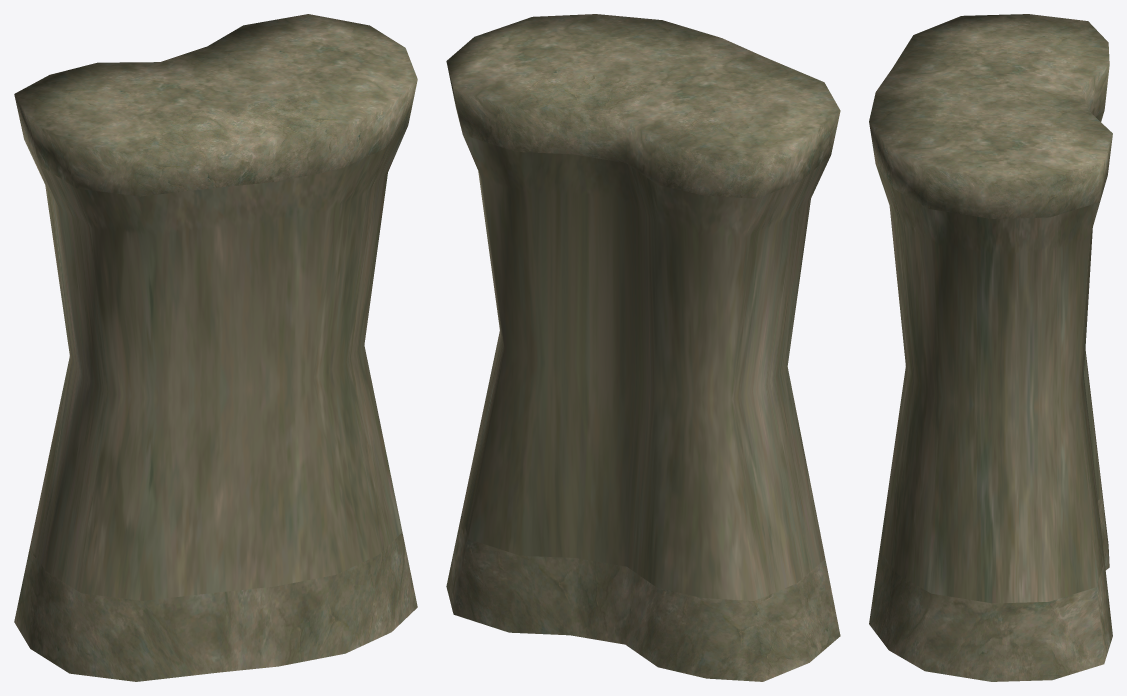
Rendered from INST_OH_MAZE_PILLARB.fbx.
The picture shows the model from 3 angles, left to right: view 1: azimuth 30°, elevation 25°; view 2: azimuth 150°, elevation 25°; view 3: azimuth 270°, elevation 25°; orthographic projection. The views are drawn at different scales.
Visible parts, largest first — view 1: INST_OH_MAZE_PILLARB; view 2: INST_OH_MAZE_PILLARB; view 3: INST_OH_MAZE_PILLARB.
Part boxes in pixels (x1,y1,x2,y2): INST_OH_MAZE_PILLARB: (14, 14, 417, 681); INST_OH_MAZE_PILLARB: (446, 14, 840, 681); INST_OH_MAZE_PILLARB: (869, 14, 1112, 681).
Size of the model in its own units: 44717 by 64030 by 27873.
Materials: 1 (1 with a texture image).
